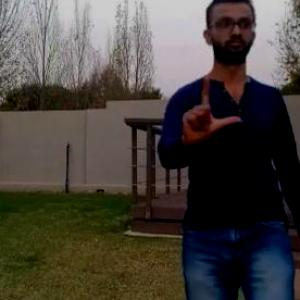land_hand: (170, 74, 238, 154)
